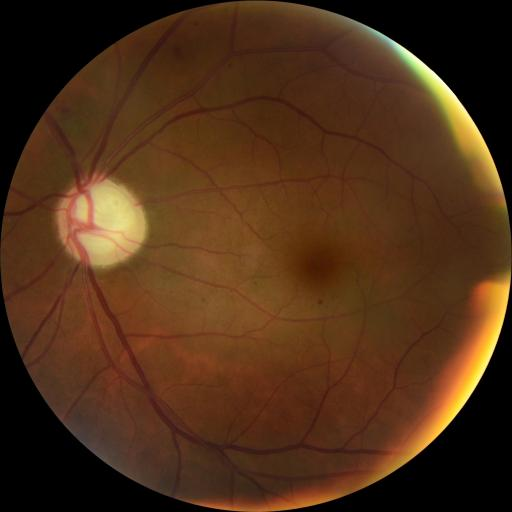Optic Cup: (74, 187, 136, 254)
Optic Disc: (56, 172, 147, 266)
